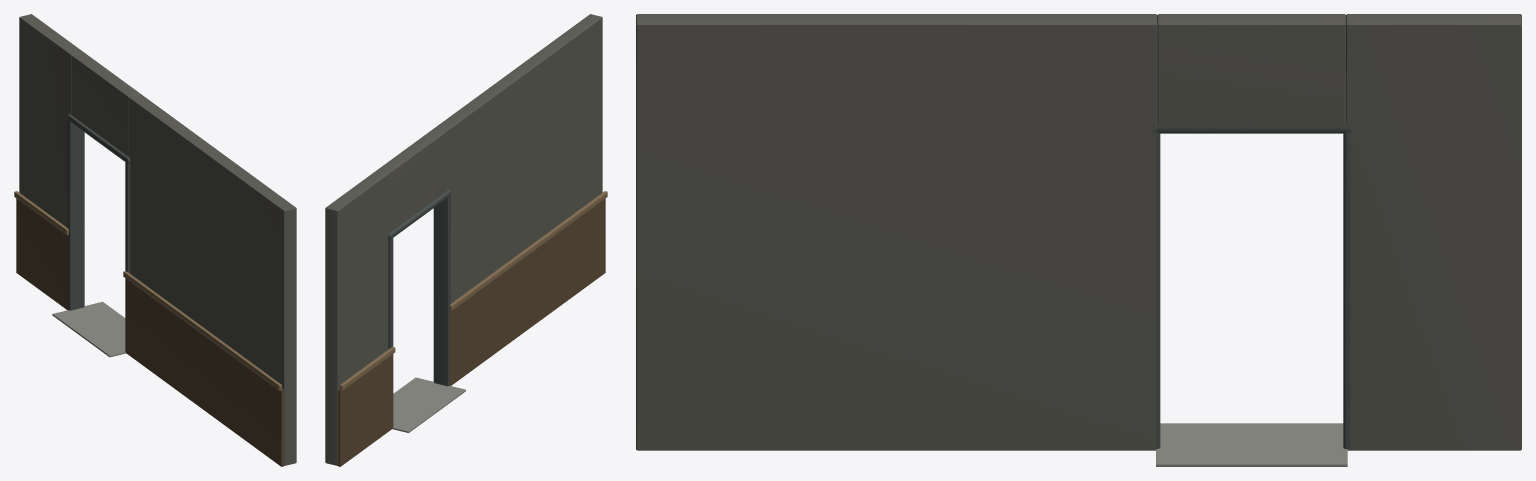
The model's file is BlackMarket_LeftPartition62.fbx.
3 renders of one model, left to right at view 1: azimuth 30°, elevation 25°; view 2: azimuth 150°, elevation 25°; view 3: azimuth 270°, elevation 25°, orthographic. The views are drawn at different scales.
Parts seen in each view (by area): view 1: BlackMarket_LeftPartition62; view 2: BlackMarket_LeftPartition62; view 3: BlackMarket_LeftPartition62.
Part boxes in pixels (x1=…): BlackMarket_LeftPartition62: x1=14, y1=14, x2=296, y2=466; BlackMarket_LeftPartition62: x1=325, y1=14, x2=607, y2=466; BlackMarket_LeftPartition62: x1=636, y1=14, x2=1521, y2=466.
Bounding box in the file's own units: 62 × 301 × 564.
